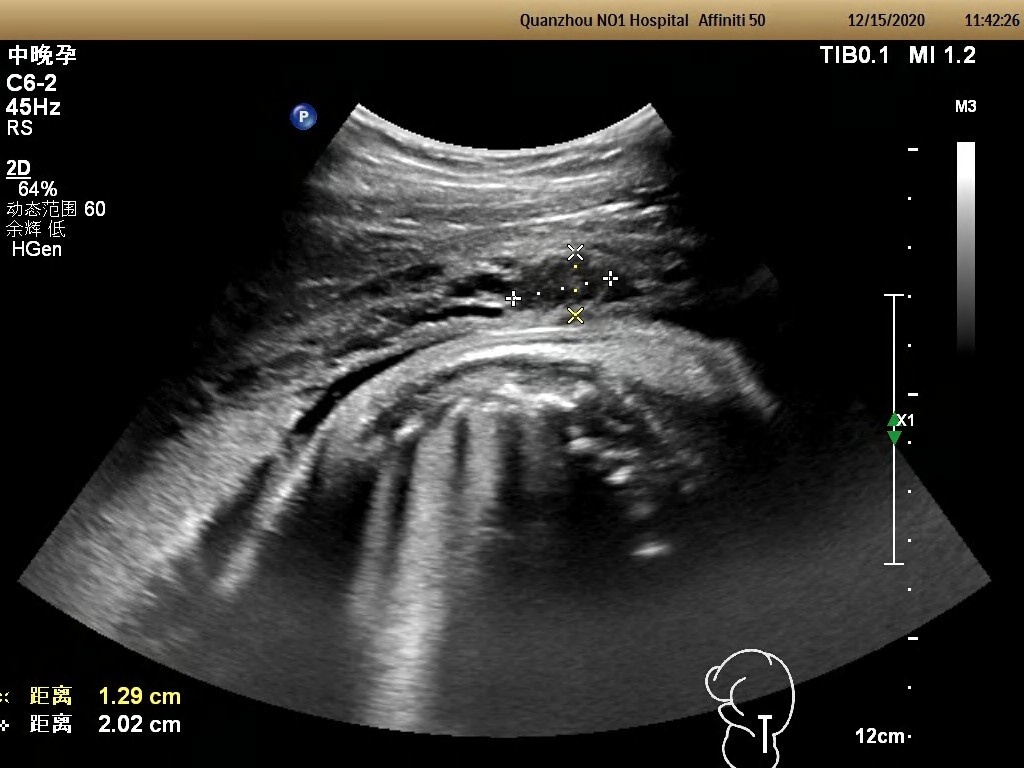肌瘤: (524, 263, 604, 302)
